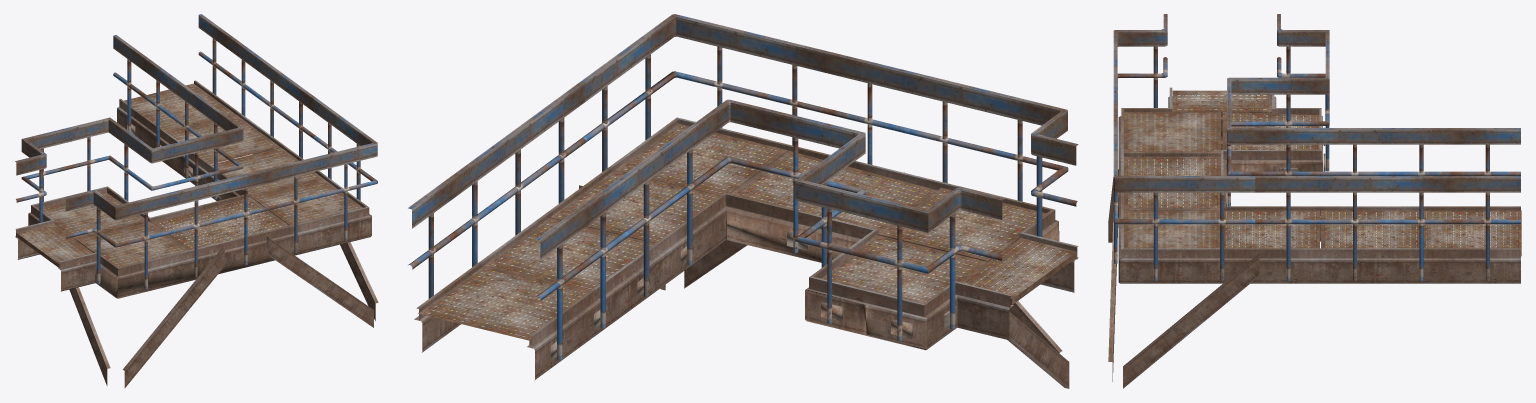
File: rocket_factory_stairs_door_top.glb
The picture shows the model from 3 angles, left to right: view 1: azimuth 30°, elevation 25°; view 2: azimuth 150°, elevation 25°; view 3: azimuth 270°, elevation 25°; orthographic projection. The views are drawn at different scales.
Parts seen in each view (by area): view 1: rocket_factory_stairs_door_top; view 2: rocket_factory_stairs_door_top; view 3: rocket_factory_stairs_door_top.
Part boxes in pixels (x1,y1,x2,y2): rocket_factory_stairs_door_top: [15, 14, 378, 388]; rocket_factory_stairs_door_top: [408, 14, 1078, 388]; rocket_factory_stairs_door_top: [1108, 14, 1521, 388].
Bounding box in the file's own units: 5.97 × 3.47 × 6.23.
Materials: 1 (1 with a texture image).
